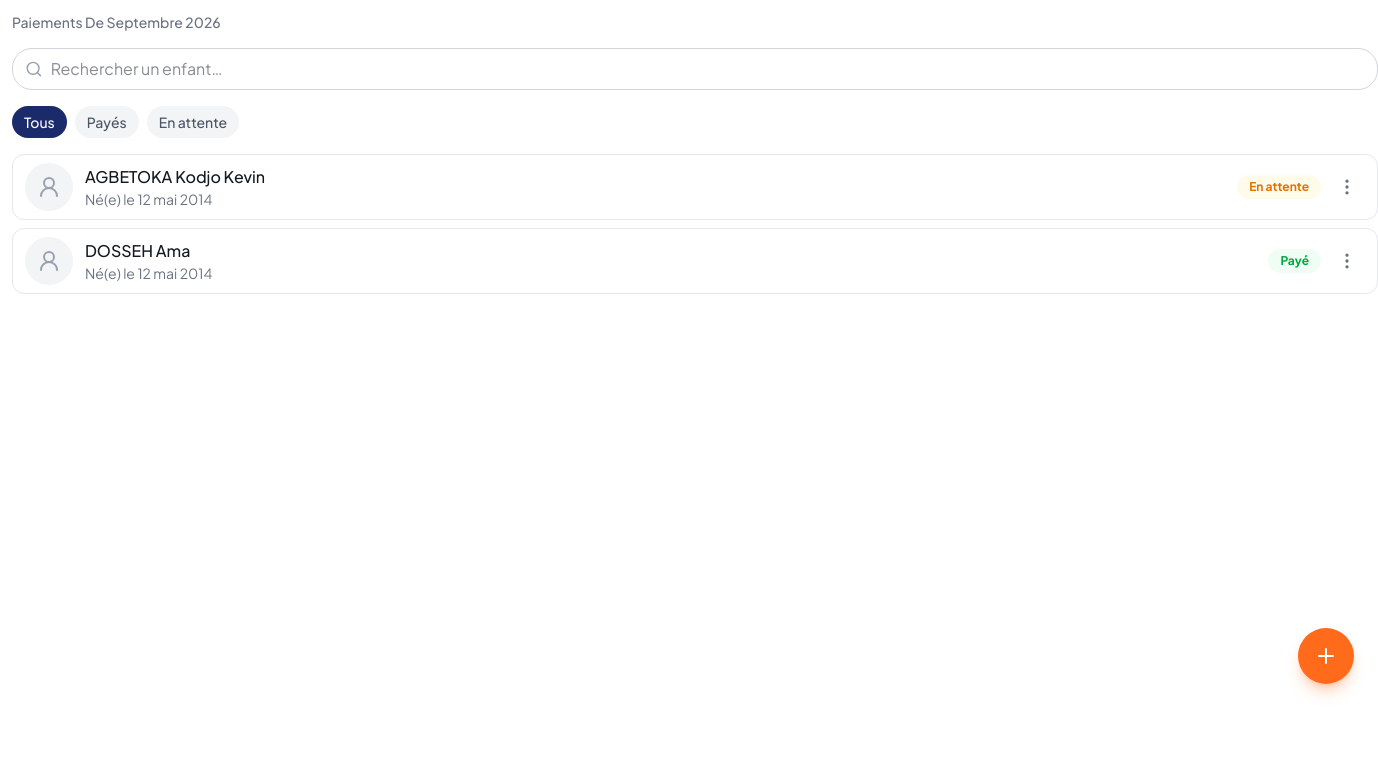
Test: PlayerList › distingue absence de résultat de recherche et filtre sans résultat
Type "zzz" into the search field labelled "Rechercher un enfant" at (708, 69), box x1=51 y1=57 x2=1365 y2=81
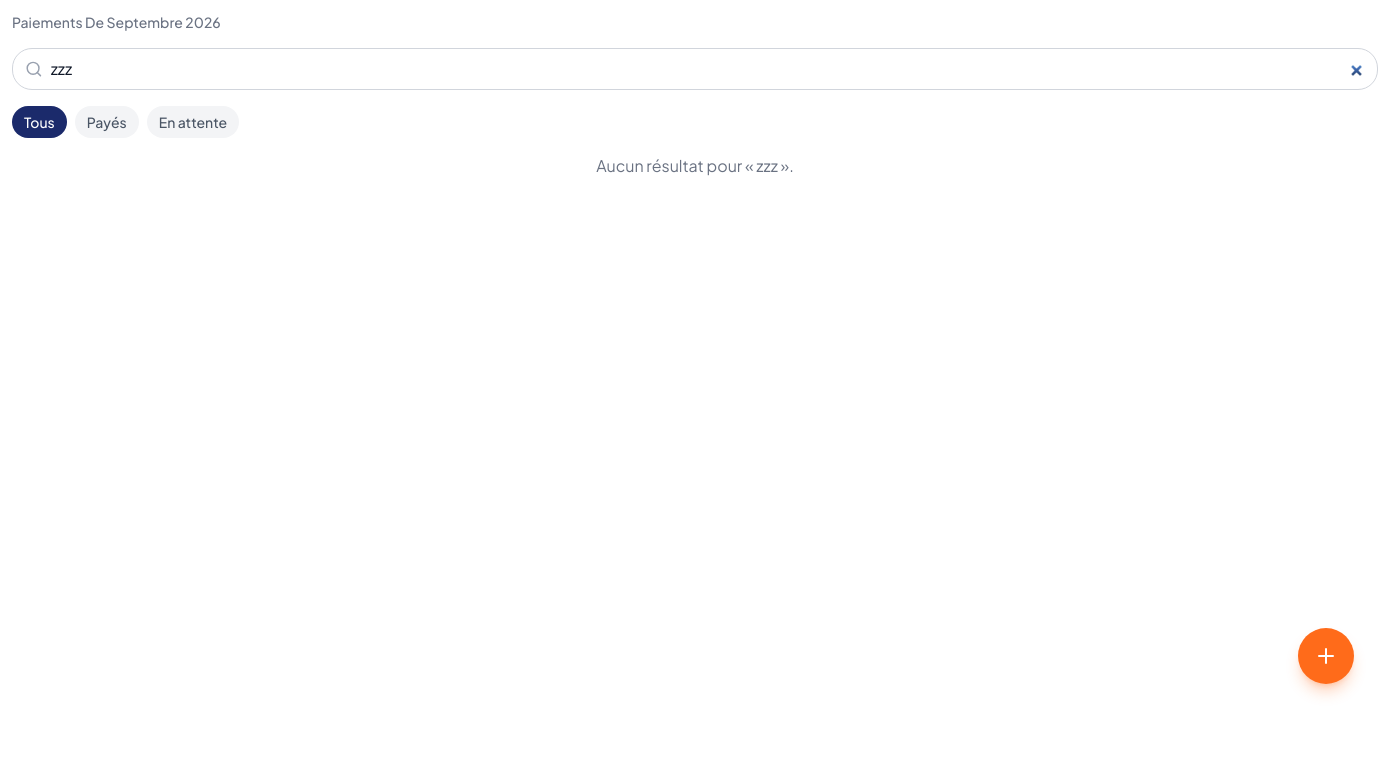
expect the text "Aucun résultat pour « zzz »." is shown: met, box x1=596 y1=155 x2=794 y2=176
Clear the search field named "Rechercher un enfant" at (708, 69), box x1=51 y1=57 x2=1365 y2=81
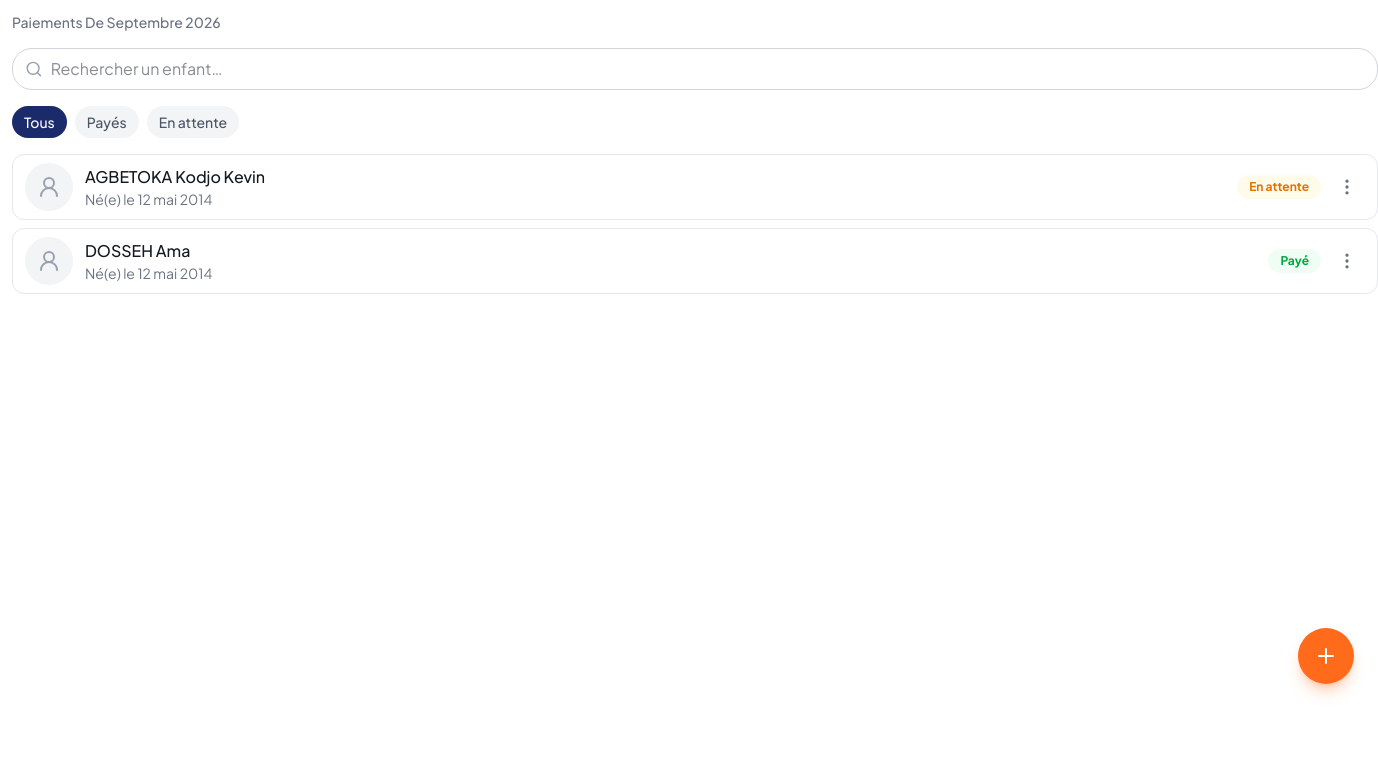
Click the tab "Payés" at (107, 122), box x1=75 y1=106 x2=139 y2=138
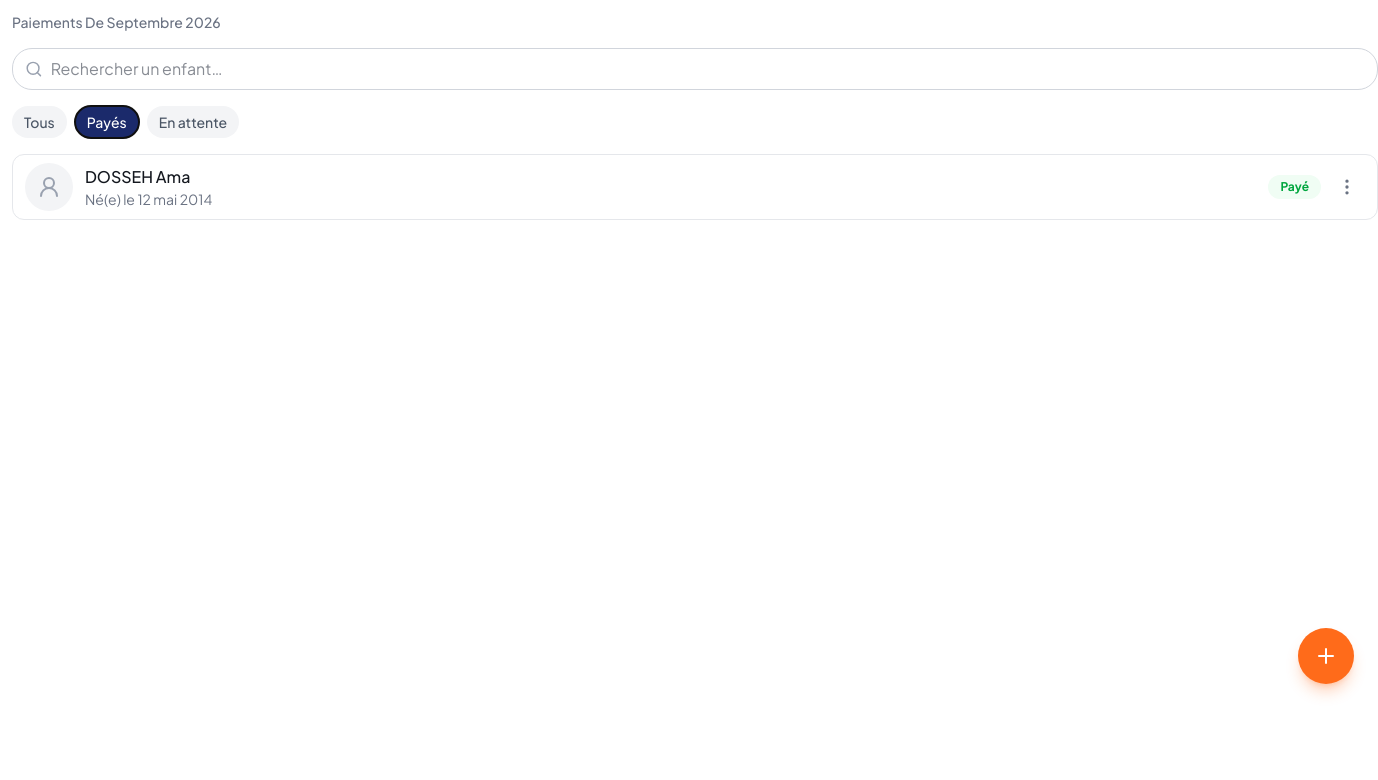
Type "agbetoka" into the search field labelled "Rechercher un enfant" at (708, 69), box x1=51 y1=57 x2=1365 y2=81
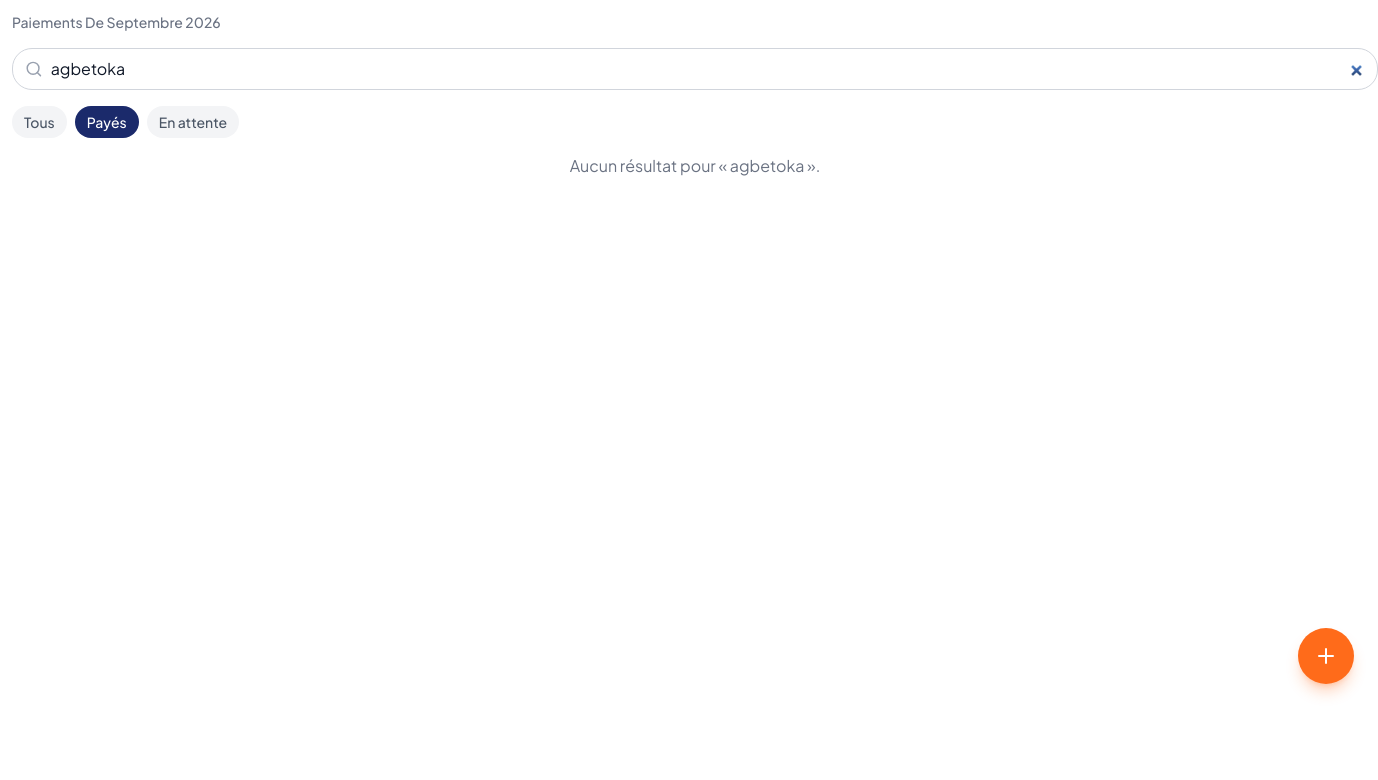
expect the text "Aucun résultat pour « agbetoka »." is shown: met, box x1=570 y1=155 x2=820 y2=176
